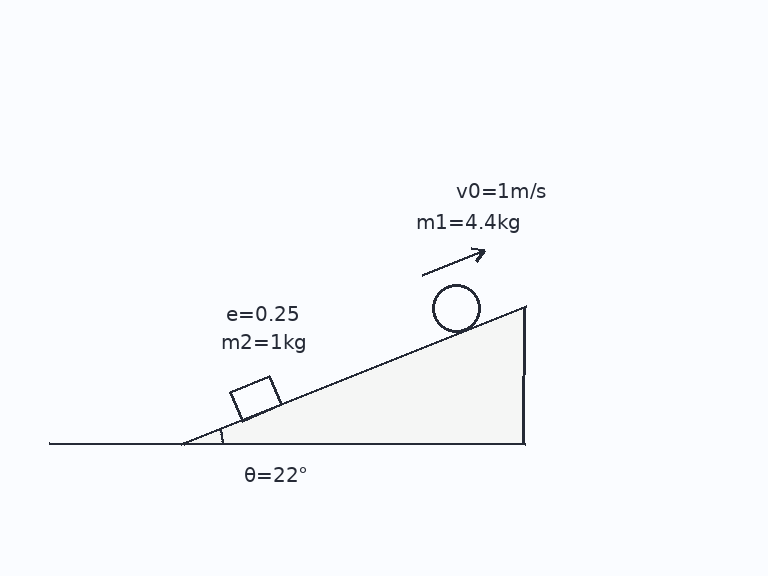ball: (430, 282, 482, 334)
block: (228, 374, 283, 422)
ramp: (181, 304, 526, 446)
